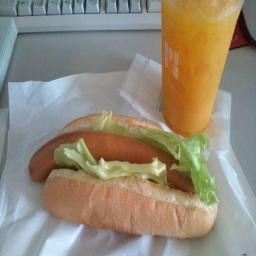hotdog: (21, 111, 220, 233)
